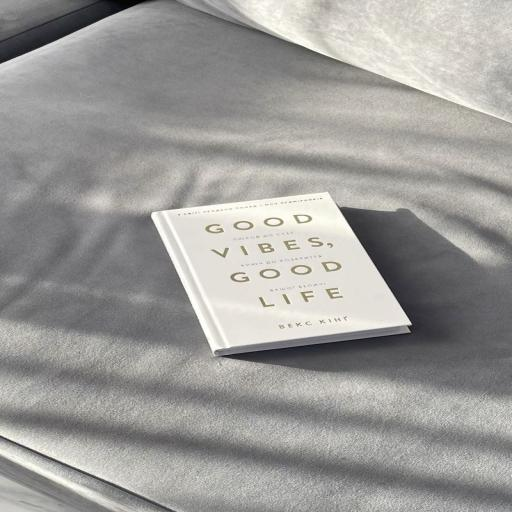bed: (152, 193, 410, 355)
